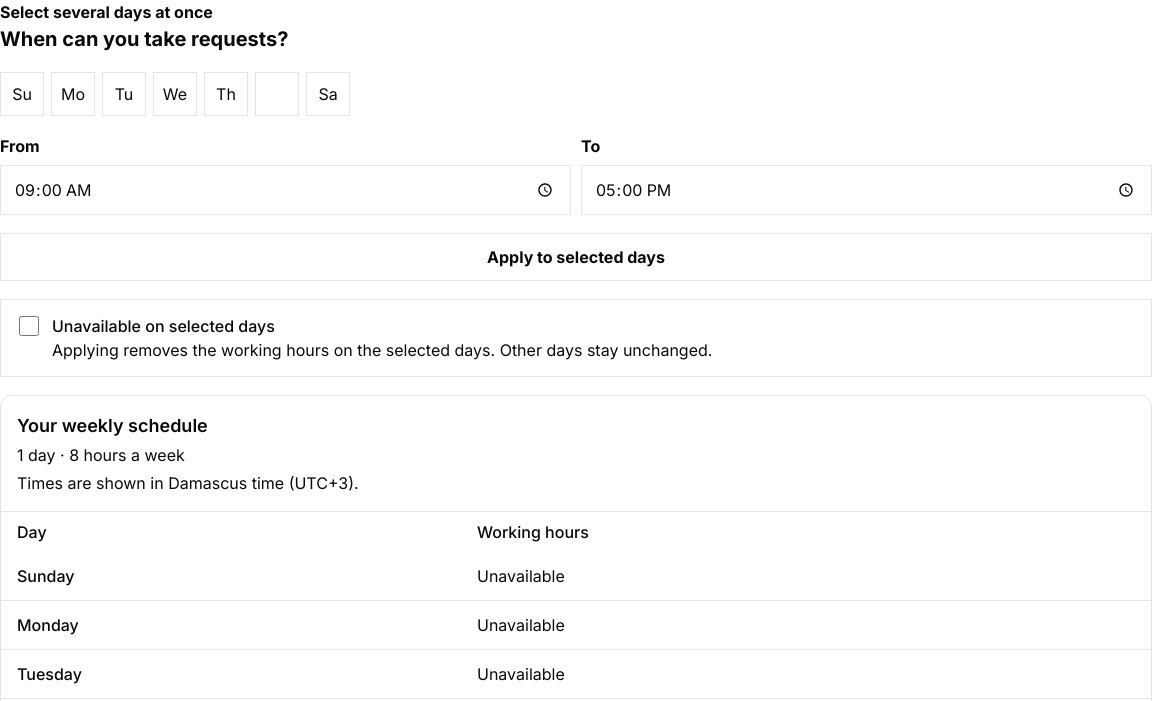
it: states the API cannot persist are unreachable › still asks before replacing existing hours with a VALID different window
Replace the text in the time field with test id "bulk-start" with "10:00" at (286, 190), box left=0, top=165, right=571, bottom=215
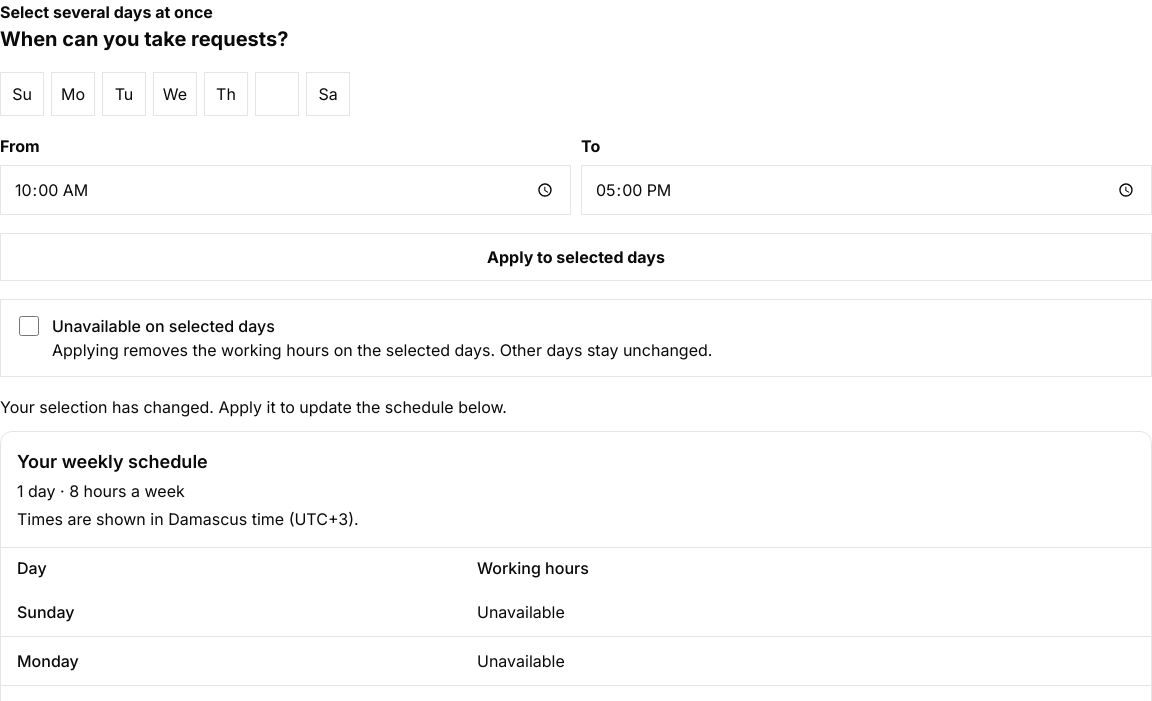
Replace the text in the time field with test id "bulk-end" with "12:00" at (866, 190), box left=581, top=165, right=1151, bottom=215
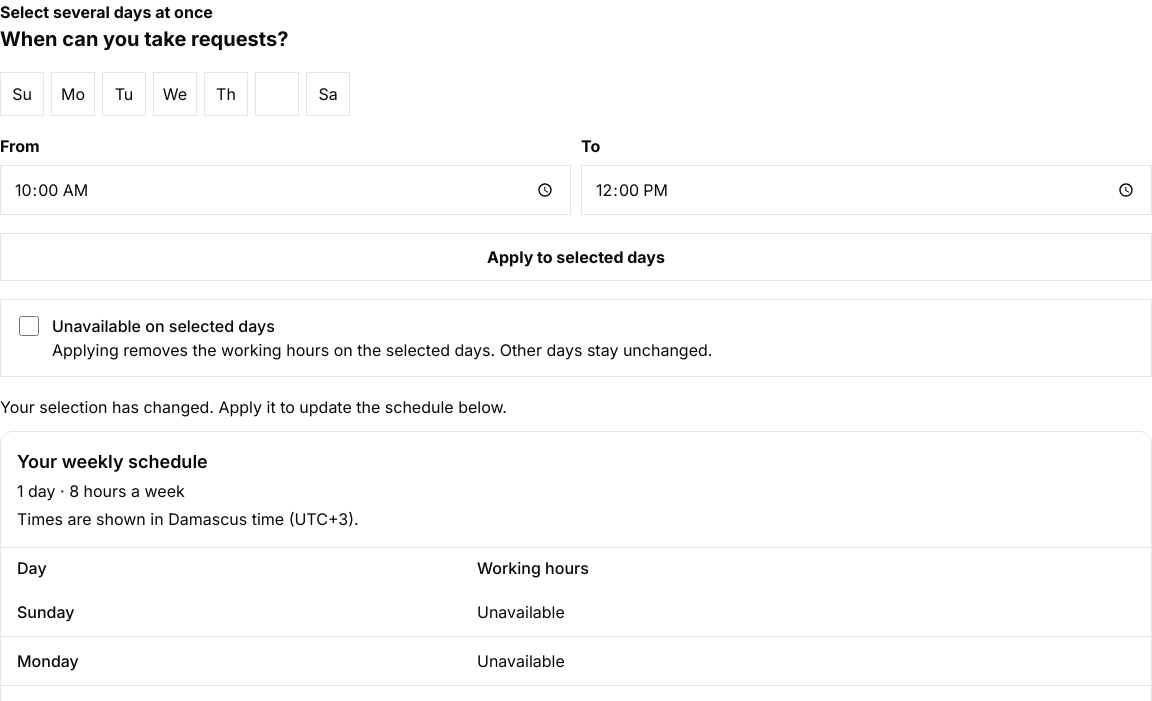
Click the button with test id "apply-to-selected" at (576, 257), box left=0, top=233, right=1151, bottom=281
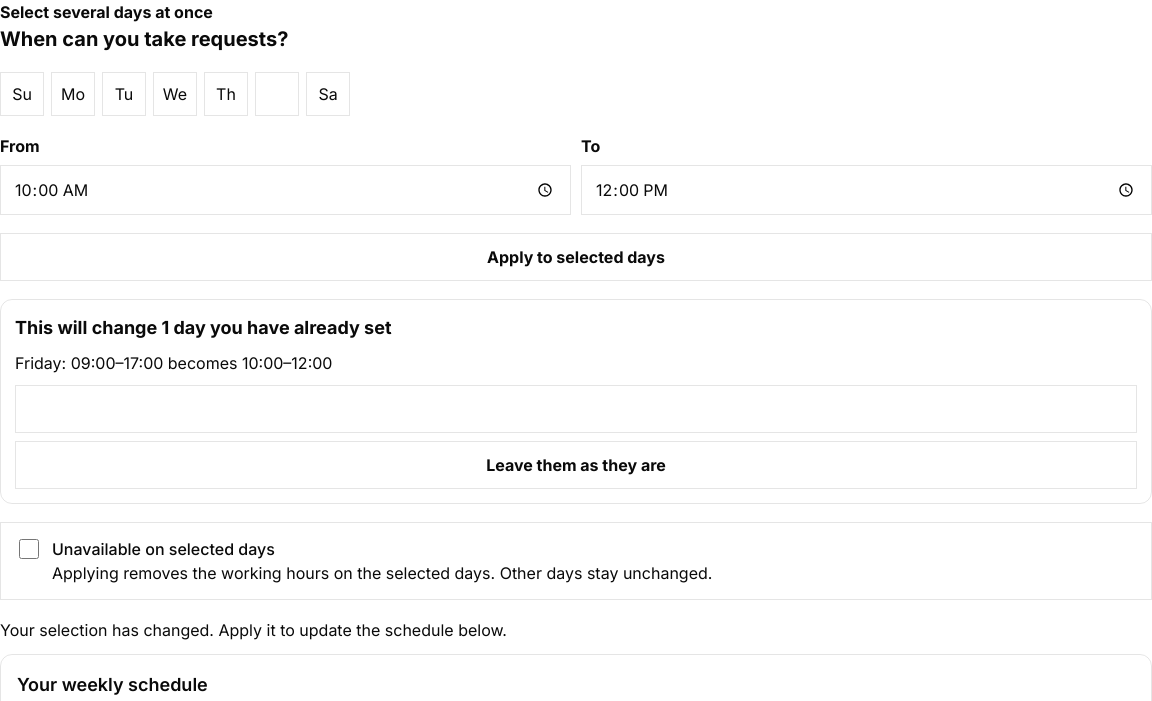
Result: the dialog with test id "apply-discards" is shown at left=0, top=299, right=1151, bottom=504
